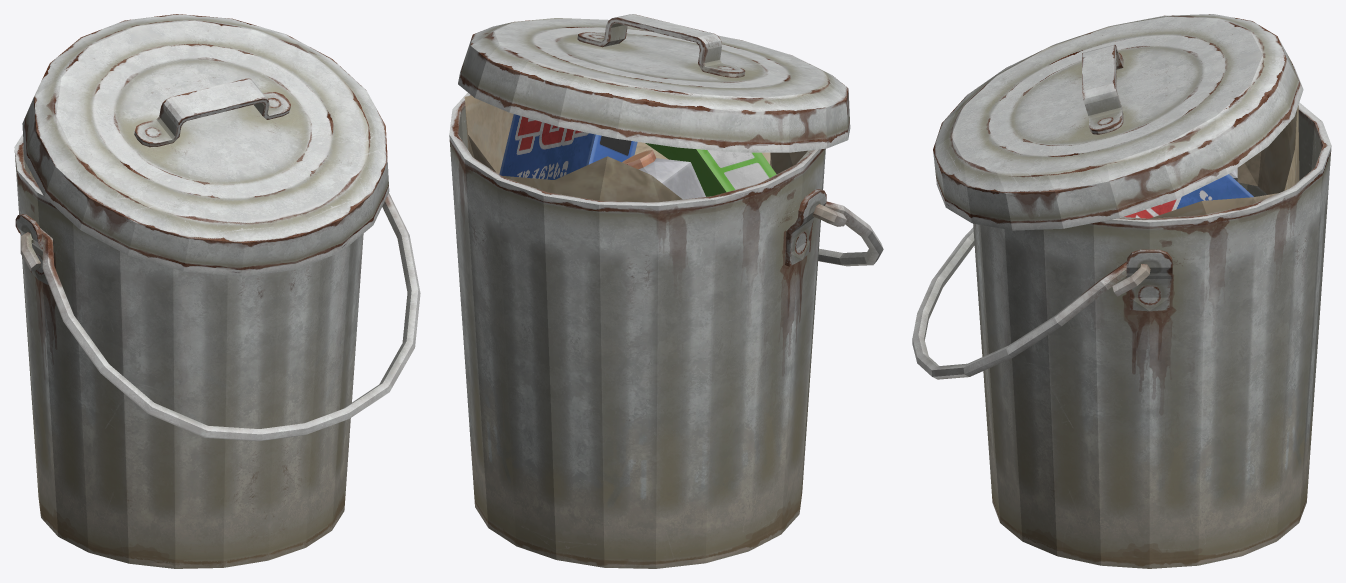
File: P_TrashCan_002_S1_M01.obj
The picture shows the model from 3 angles, left to right: view 1: azimuth 30°, elevation 25°; view 2: azimuth 150°, elevation 25°; view 3: azimuth 270°, elevation 25°; orthographic projection. The views are drawn at different scales.
Size of the model in its own units: 0.7979 by 0.9387 by 0.7971.
1 material, 1 textured.
